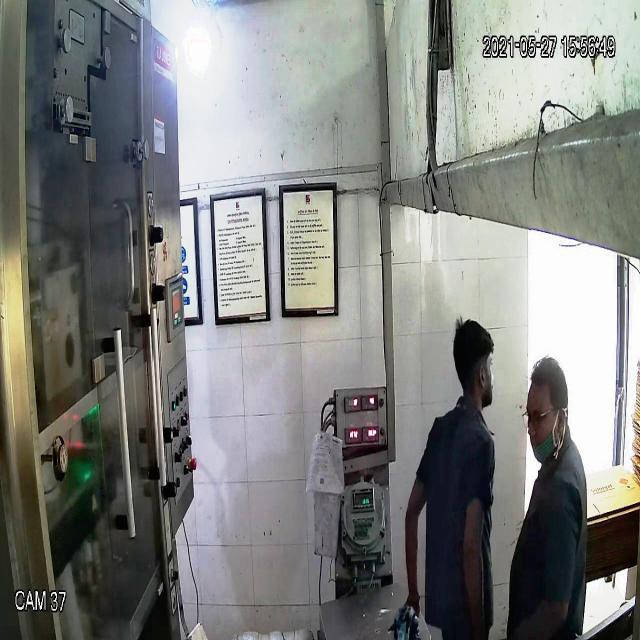glasses: (523, 398, 561, 433)
